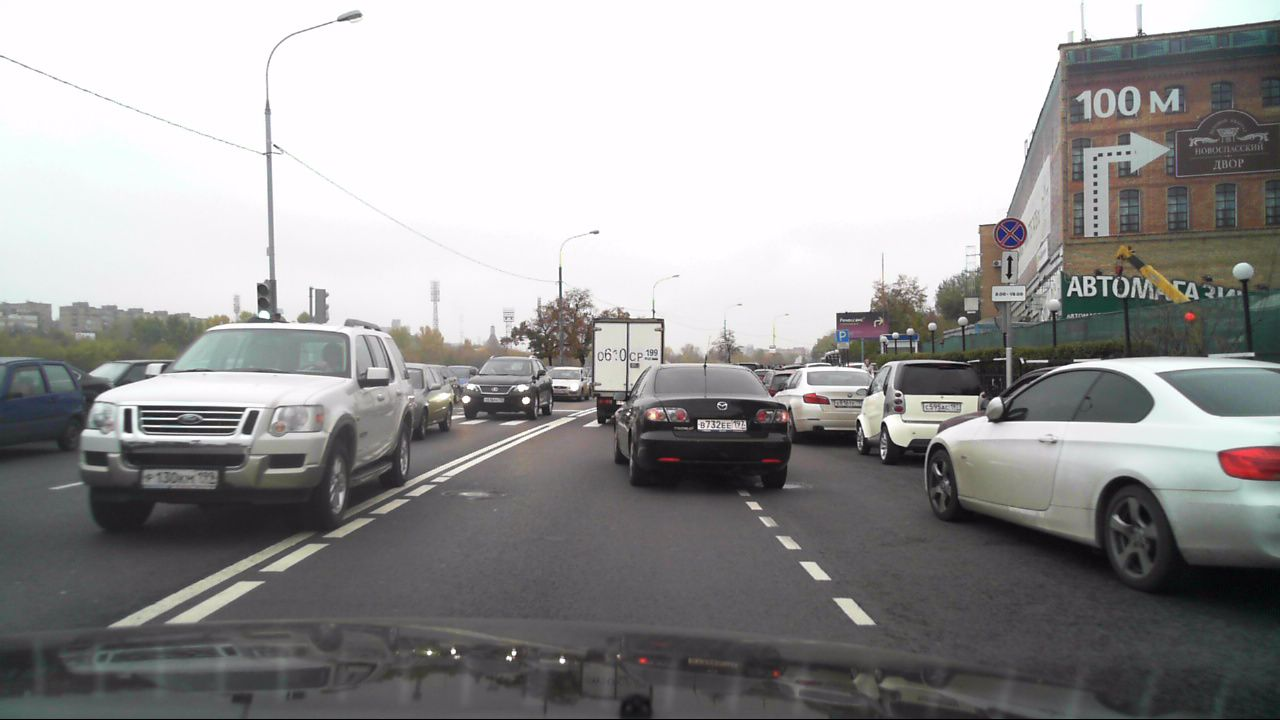No Parking: (992, 215, 1028, 250)
